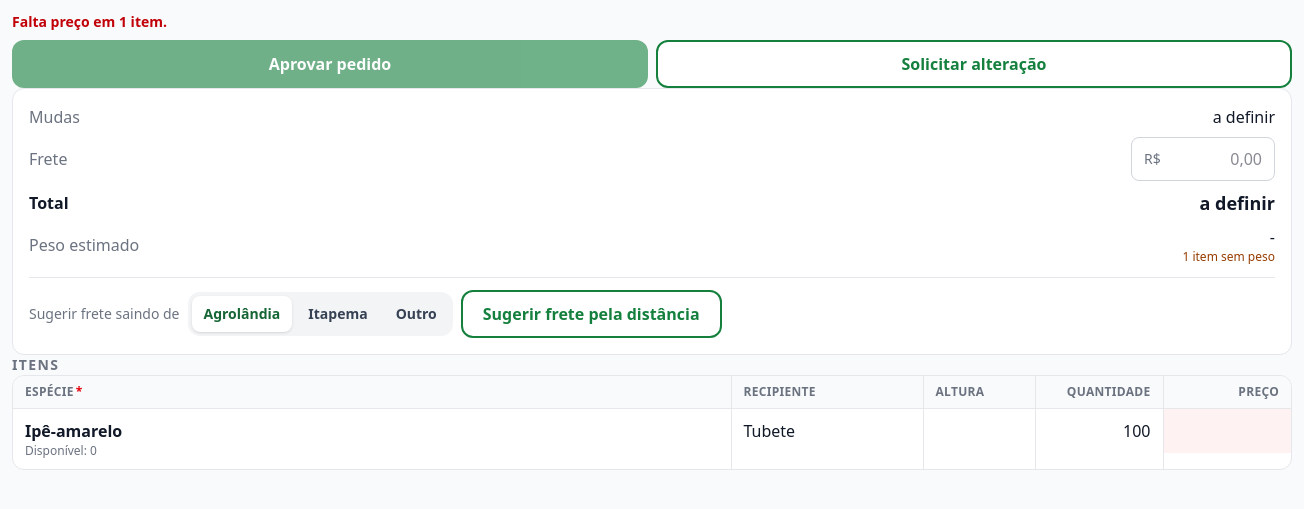
Test case: ItensDaFicha: a negociação grava ao digitar (RF-65) › o erro do servidor aparece em cima da grade
The image size is (1304, 509).
Type "9999999999" into the field named "Preço do item 1".
click(1227, 431); type("9999999999")  # box top-left (1164, 409), bottom-right (1291, 453)
Wait 600 ms
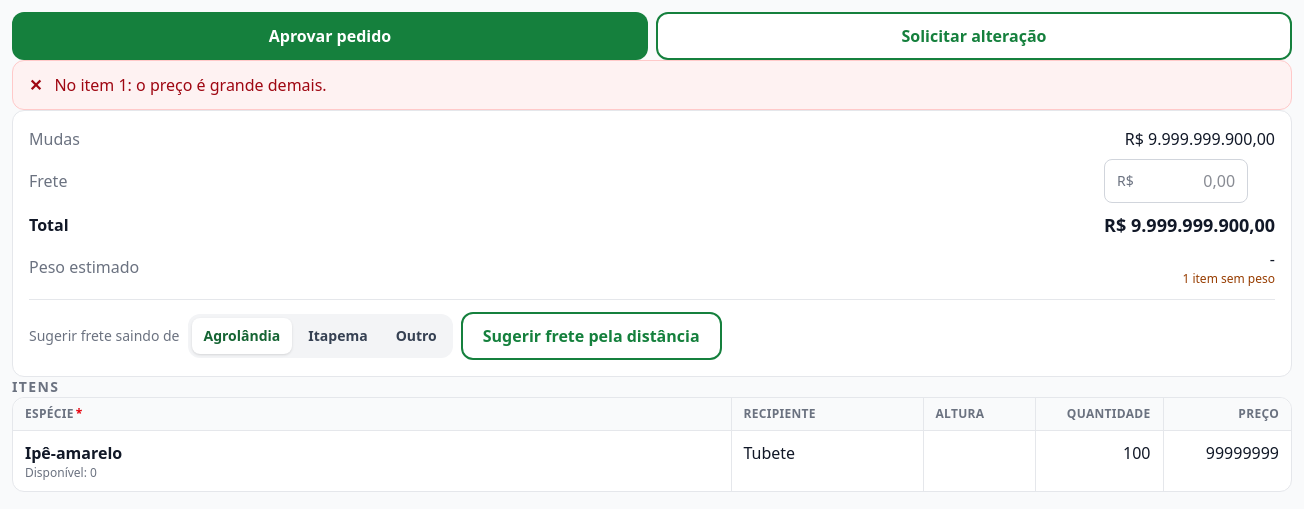
Expected: the text "No item 1: o preço é grande demais." is shown, top-left (54, 73), bottom-right (327, 97)
